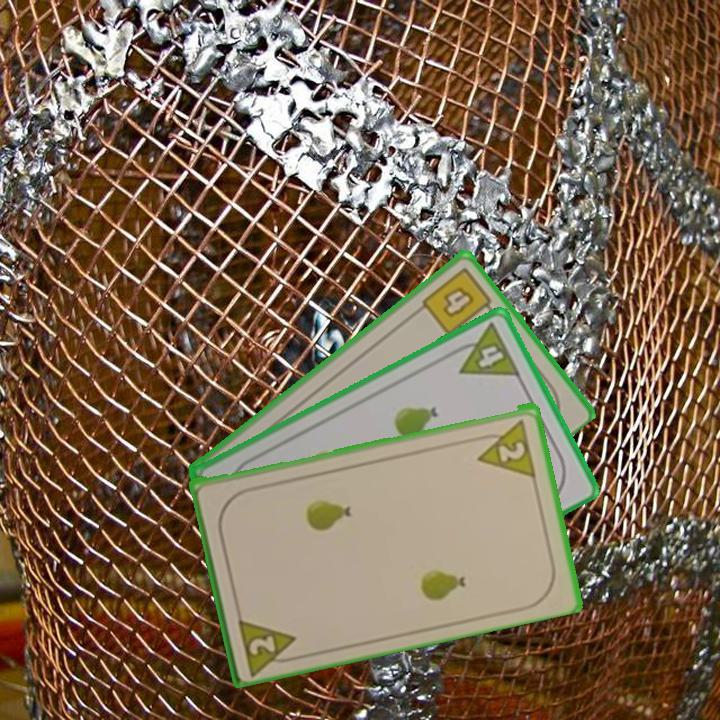2p: (471, 415, 539, 479), (245, 631, 279, 658)
4b: (418, 263, 499, 339)
4p: (446, 319, 523, 379)
